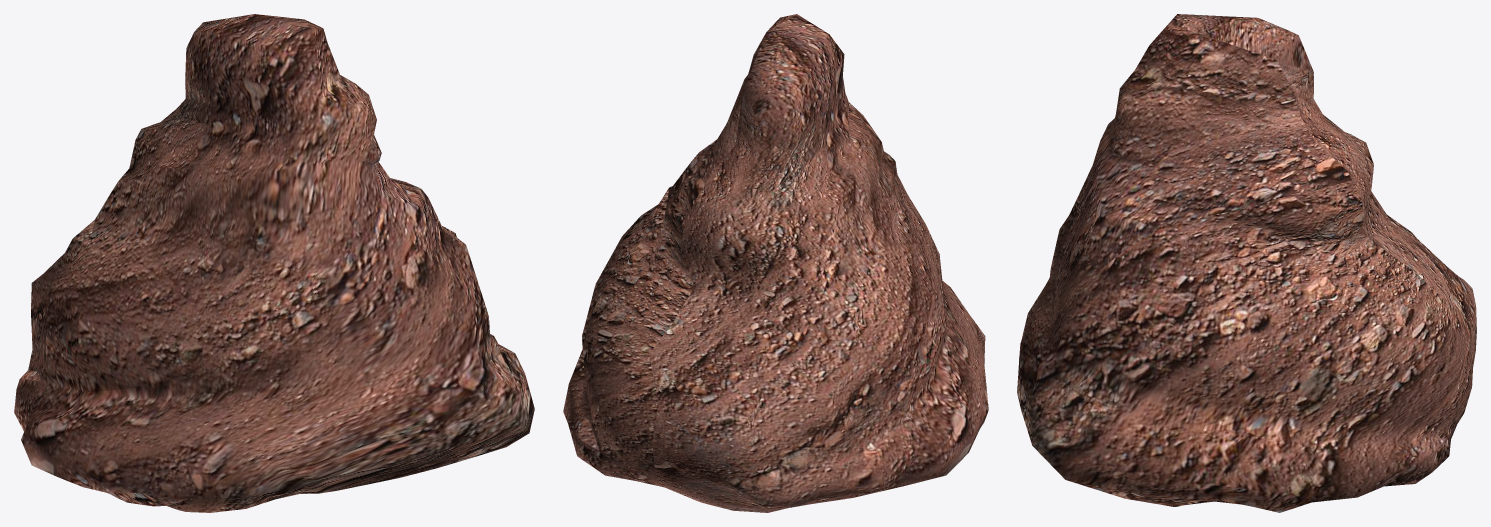
File: Rock 2.FBX
3 views of the same model, side by side, from view 1: azimuth 30°, elevation 25°; view 2: azimuth 150°, elevation 25°; view 3: azimuth 270°, elevation 25° (orthographic). The views are drawn at different scales.
Visible parts, largest first — view 1: RockMesh; view 2: RockMesh; view 3: RockMesh.
Boxes of the visible parts, x1,y1,x2,y2 form: RockMesh: [14, 14, 534, 512]; RockMesh: [563, 14, 988, 512]; RockMesh: [1017, 14, 1476, 512].
Bounding box in the file's own units: 231 × 232 × 229.
Materials: 1 (1 with a texture image).
